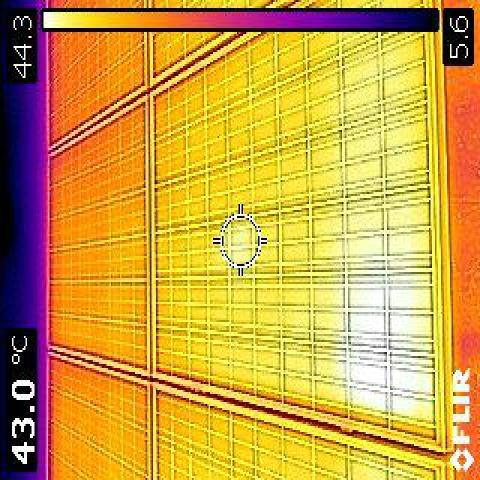fault: (344, 232, 434, 433)
